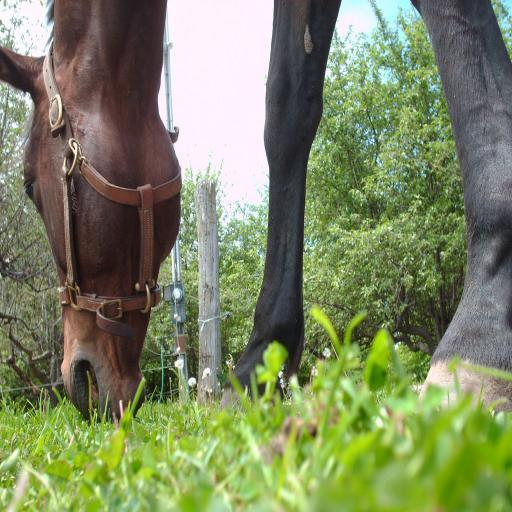horse: (0, 0, 512, 419)
